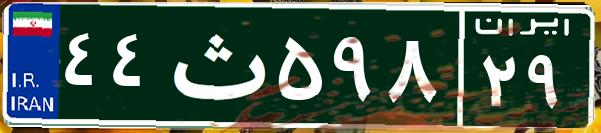2: (475, 38, 525, 113)
4: (57, 26, 110, 107), (110, 28, 158, 105)
5: (273, 28, 330, 110)
8: (385, 28, 445, 110)
9: (330, 28, 385, 110), (525, 38, 570, 115)
ث: (158, 15, 273, 115)
